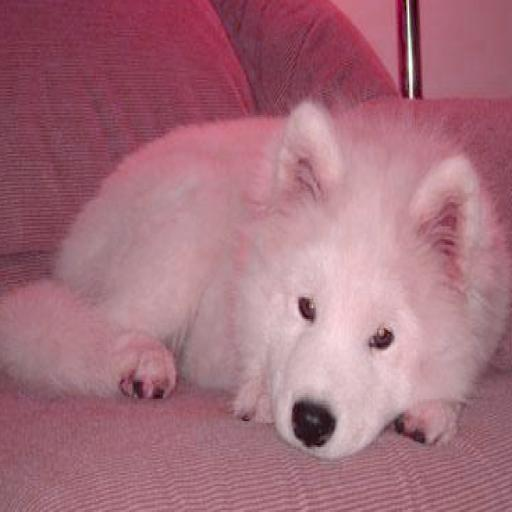dog_face: (270, 110, 480, 465)
